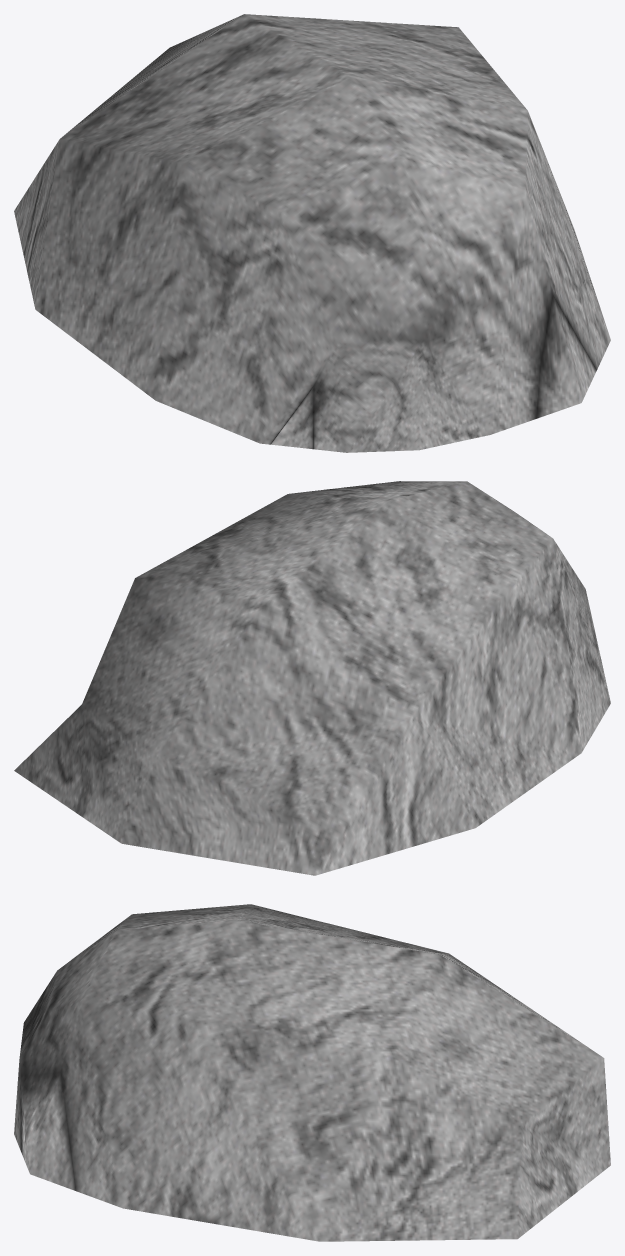
File: big_stone3.gltf
3 renders of one model, top to bottom at view 1: azimuth 30°, elevation 25°; view 2: azimuth 150°, elevation 25°; view 3: azimuth 270°, elevation 25°, orthographic. The views are drawn at different scales.
Parts seen in each view (by area): view 1: something; view 2: something; view 3: something.
Part boxes in pixels (x1,y1,x2,y2): something: [14, 14, 610, 452]; something: [14, 481, 610, 875]; something: [14, 904, 610, 1241].
Size of the model in its own units: 1.74 by 0.8823 by 2.25.
Materials: 1 (1 with a texture image).
